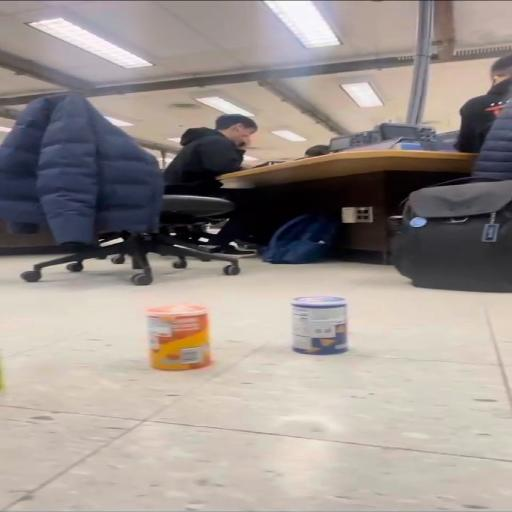pringle can: (144, 304, 216, 371), (288, 295, 350, 354)
